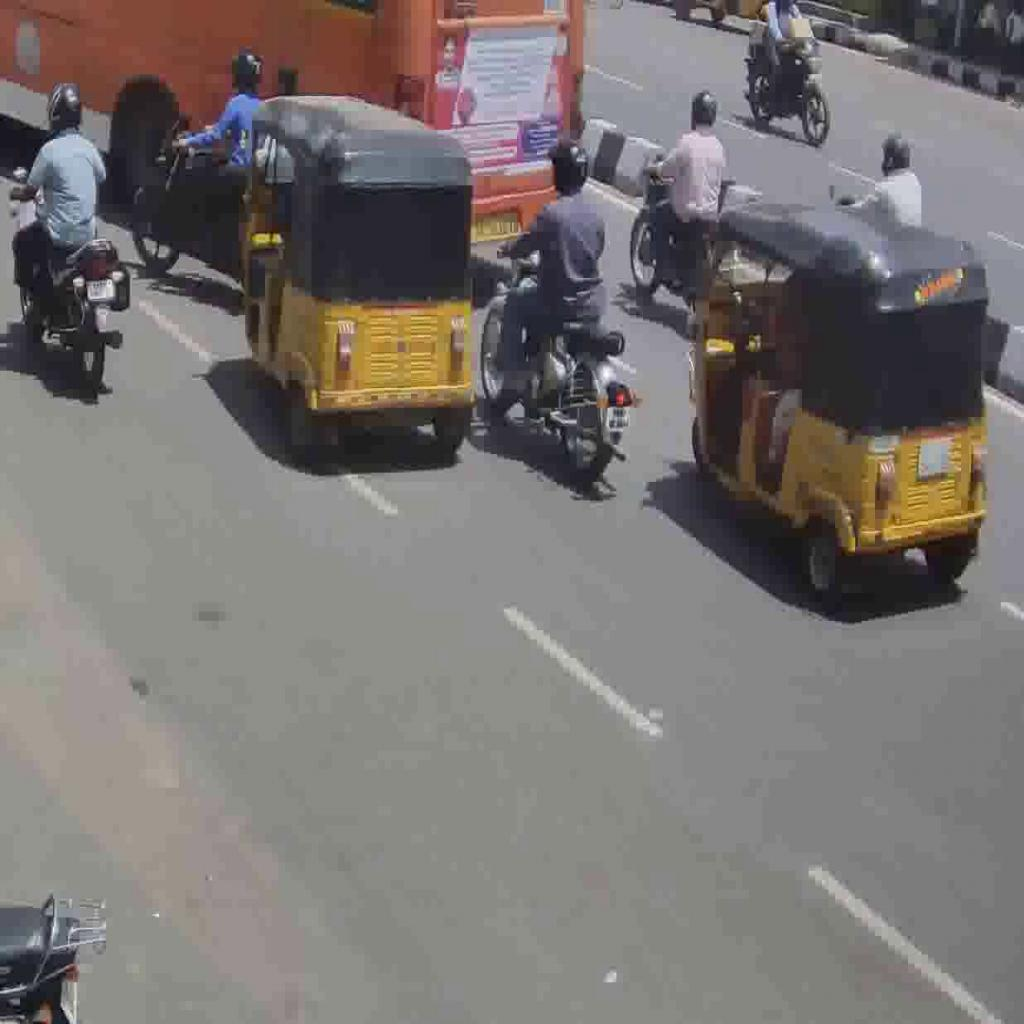bike: (479, 230, 643, 485), (8, 181, 132, 393), (130, 110, 244, 285), (629, 150, 718, 313)
helmet: (546, 140, 590, 198), (45, 80, 84, 134), (228, 44, 264, 92), (689, 86, 720, 131)
lisc: (86, 278, 114, 302), (606, 406, 630, 430)
noise: (742, 0, 832, 147)
rider: (492, 140, 610, 394), (9, 80, 107, 332), (170, 44, 264, 268), (640, 86, 734, 282)
